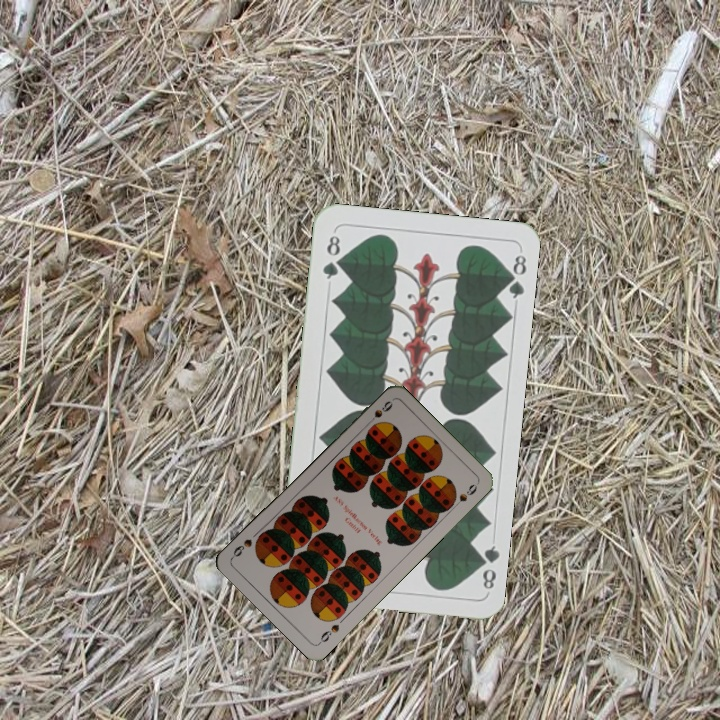G8: (472, 541, 501, 592), (318, 228, 344, 282)
S9: (315, 620, 342, 647), (368, 396, 396, 422)
